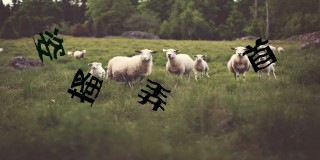姿: (32, 27, 66, 62)
弄: (138, 79, 171, 112)
搔: (66, 68, 103, 107)
首: (242, 38, 278, 73)
